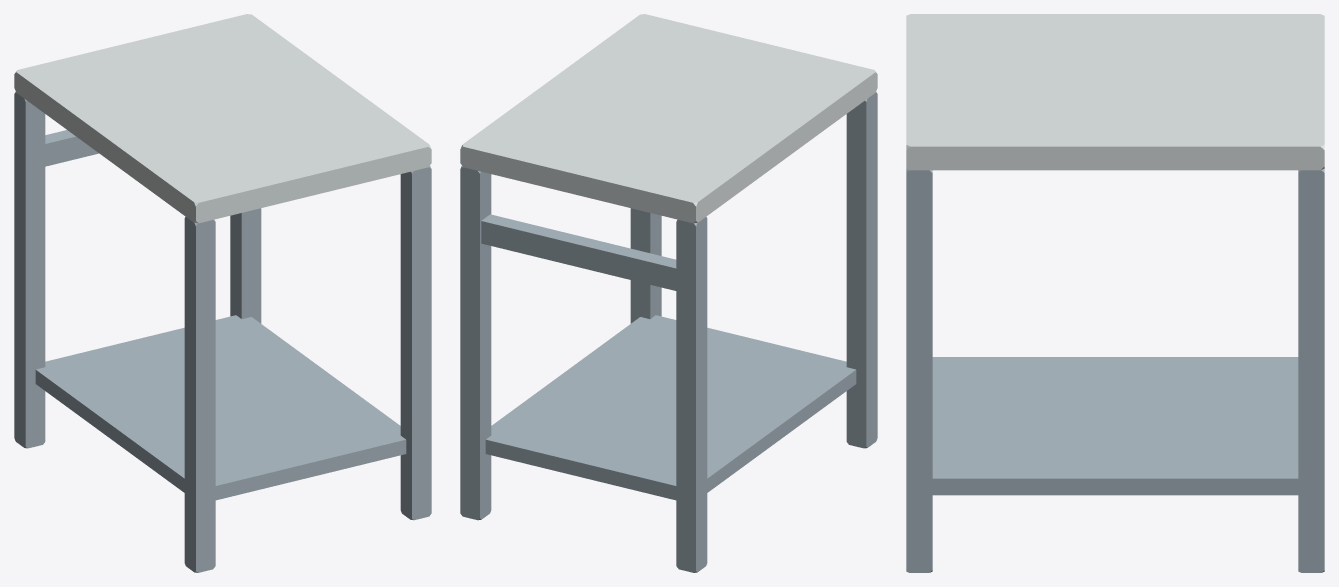
The model's file is KitchenCounter_Short.glb.
3 renders of one model, left to right at view 1: azimuth 30°, elevation 25°; view 2: azimuth 150°, elevation 25°; view 3: azimuth 270°, elevation 25°, orthographic. The views are drawn at different scales.
Visible parts, largest first — view 1: KitchenCounter_Short; view 2: KitchenCounter_Short; view 3: KitchenCounter_Short.
Part boxes in pixels (x1=…): KitchenCounter_Short: x1=14, y1=14, x2=431, y2=572; KitchenCounter_Short: x1=460, y1=14, x2=877, y2=572; KitchenCounter_Short: x1=906, y1=14, x2=1324, y2=572.
Bounding box in the file's own units: 0.6 × 0.9 × 0.8.
